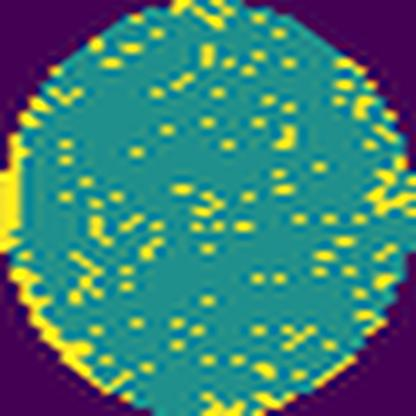Edge-Loc: (8, 262, 123, 395), (0, 128, 25, 249)
